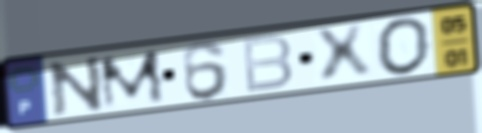6: (180, 38, 232, 103)
B: (238, 33, 295, 95)
M: (96, 47, 169, 112)
N: (45, 53, 107, 119)
O: (374, 15, 434, 78)
X: (310, 21, 376, 86)
